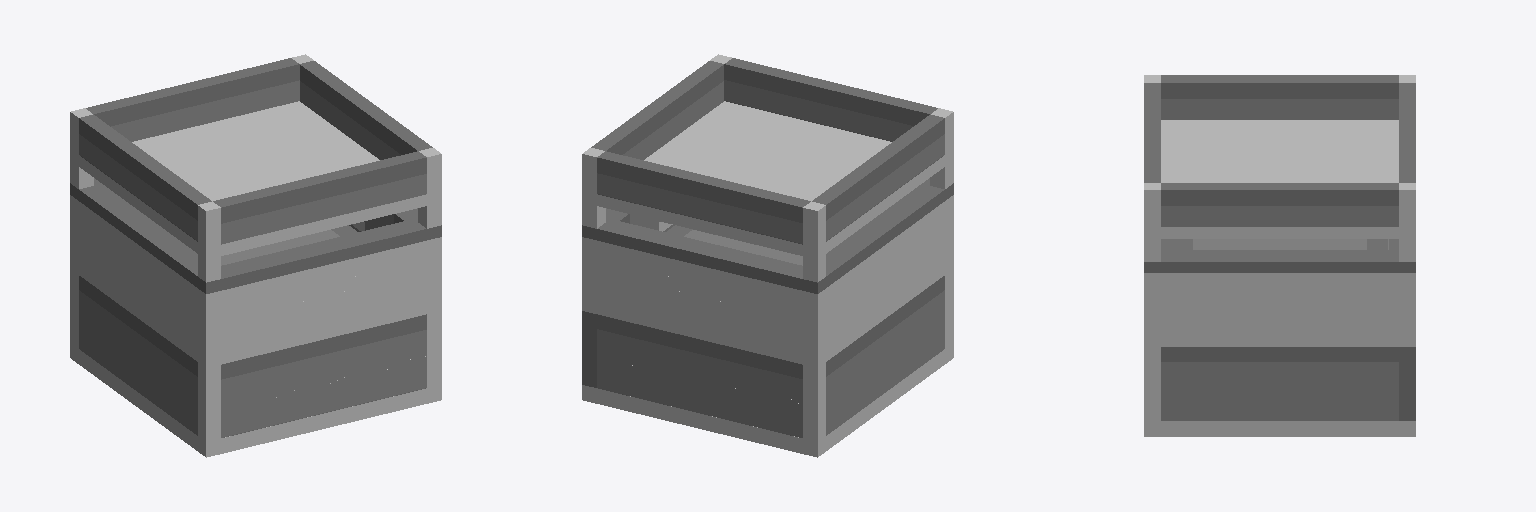
The picture shows the model from 3 angles: view 1: azimuth 30°, elevation 25°; view 2: azimuth 150°, elevation 25°; view 3: azimuth 270°, elevation 25°; orthographic projection.
Visible parts, largest first — view 1: IngotHolderBase_Cube.026, FuelHolderWallNegY_Cube.003, DestroyedMetalHolderWallNegY_Cube.015, DestroyedMetalBasin_Cube.019, IngotHolderRimNegY_Cube.038, FuelHolderWallNegX_Cube.016, DestroyedMetalHolderWallNegX_Cube.004, IngotHolderRimPosY_Cube.037, IngotHolderRimNegX_Cube.035, FuelHolderBottom_Cube.001, IngotHolderRimPosX_Cube.036, DestroyedMetalBasinConnectorNegY_Cube.022 (+9 smaller); view 2: IngotHolderBase_Cube.026, FuelHolderWallPosY_Cube.002, DestroyedMetalHolderWallPosY_Cube.013, DestroyedMetalBasin_Cube.019, IngotHolderRimPosY_Cube.037, FuelHolderWallNegX_Cube.016, DestroyedMetalHolderWallNegX_Cube.004, IngotHolderRimNegY_Cube.038, IngotHolderRimNegX_Cube.035, FuelHolderBottom_Cube.001, IngotHolderRimPosX_Cube.036, DestroyedMetalBasinConnectorPosY_Cube.023 (+9 smaller); view 3: IngotHolderBase_Cube.026, FuelHolderWallPosX_Cube.005, DestroyedMetalHolderWallPosX_Cube.014, IngotHolderRimNegX_Cube.035, IngotHolderRimPosX_Cube.036, DestroyedMetalBasin_Cube.019, FuelHolderBottom_Cube.001, IngotHolderRimPosY_Cube.037, IngotHolderRimNegY_Cube.038, FuelHolderCornerPosXNegY_Cube.007, FuelHolderCornerPosXPosY_Cube.009, DestroyedMetalHolderCornerPosXNegY_Cube.012 (+4 smaller).
Boxes of the visible parts, x1,y1,x2,y2 form: IngotHolderBase_Cube.026: [70, 101, 441, 259]; FuelHolderWallNegY_Cube.003: [221, 314, 426, 437]; DestroyedMetalHolderWallNegY_Cube.015: [221, 241, 426, 364]; DestroyedMetalBasin_Cube.019: [70, 178, 441, 293]; IngotHolderRimNegY_Cube.038: [213, 151, 426, 244]; FuelHolderWallNegX_Cube.016: [79, 276, 197, 435]; DestroyedMetalHolderWallNegX_Cube.004: [79, 202, 197, 361]; IngotHolderRimPosY_Cube.037: [86, 58, 299, 141]; IngotHolderRimNegX_Cube.035: [79, 114, 211, 241]; FuelHolderBottom_Cube.001: [70, 343, 441, 457]; IngotHolderRimPosX_Cube.036: [300, 61, 432, 159]; DestroyedMetalBasinConnectorNegY_Cube.022: [281, 274, 366, 324]; IngotHolderBase_Cube.026: [582, 101, 953, 259]; FuelHolderWallPosY_Cube.002: [597, 314, 802, 437]; DestroyedMetalHolderWallPosY_Cube.013: [597, 241, 802, 364]; DestroyedMetalBasin_Cube.019: [582, 178, 953, 293]; IngotHolderRimPosY_Cube.037: [597, 151, 810, 244]; FuelHolderWallNegX_Cube.016: [826, 276, 944, 435]; DestroyedMetalHolderWallNegX_Cube.004: [826, 202, 944, 361]; IngotHolderRimNegY_Cube.038: [724, 58, 937, 141]; IngotHolderRimNegX_Cube.035: [812, 114, 944, 241]; FuelHolderBottom_Cube.001: [582, 343, 953, 457]; IngotHolderRimPosX_Cube.036: [591, 61, 723, 159]; DestroyedMetalBasinConnectorPosY_Cube.023: [657, 274, 742, 324]; IngotHolderBase_Cube.026: [1144, 120, 1415, 238]; FuelHolderWallPosX_Cube.005: [1161, 347, 1398, 420]; DestroyedMetalHolderWallPosX_Cube.014: [1161, 273, 1398, 346]; IngotHolderRimNegX_Cube.035: [1161, 75, 1398, 119]; IngotHolderRimPosX_Cube.036: [1161, 183, 1398, 226]; DestroyedMetalBasin_Cube.019: [1144, 239, 1415, 272]; FuelHolderBottom_Cube.001: [1144, 421, 1415, 436]; IngotHolderRimPosY_Cube.037: [1399, 83, 1415, 182]; IngotHolderRimNegY_Cube.038: [1144, 83, 1160, 182]; FuelHolderCornerPosXNegY_Cube.007: [1144, 347, 1160, 420]; FuelHolderCornerPosXPosY_Cube.009: [1399, 347, 1415, 420]; DestroyedMetalHolderCornerPosXNegY_Cube.012: [1144, 273, 1160, 346].
Size of the model in its own units: 1 by 1 by 1.
9 materials, 4 textured.